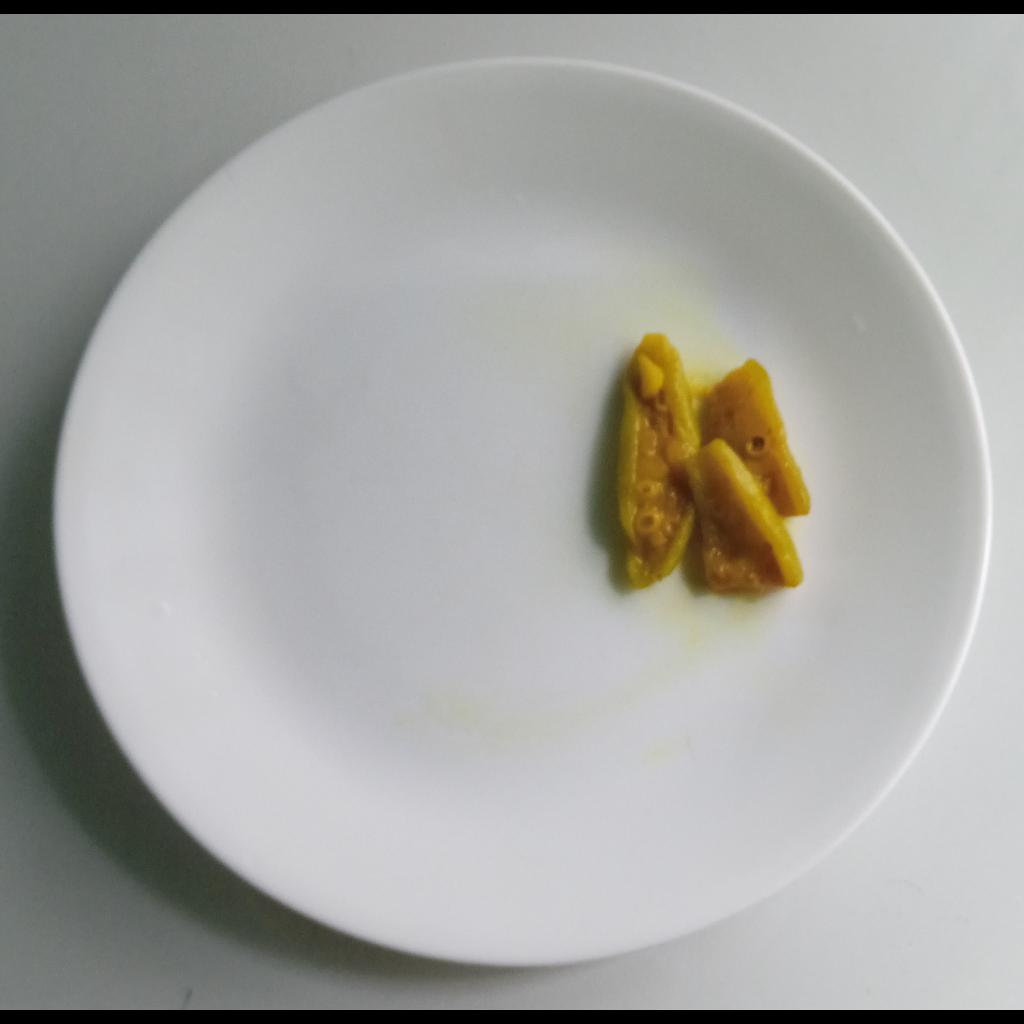potol: (616, 329, 818, 598)
